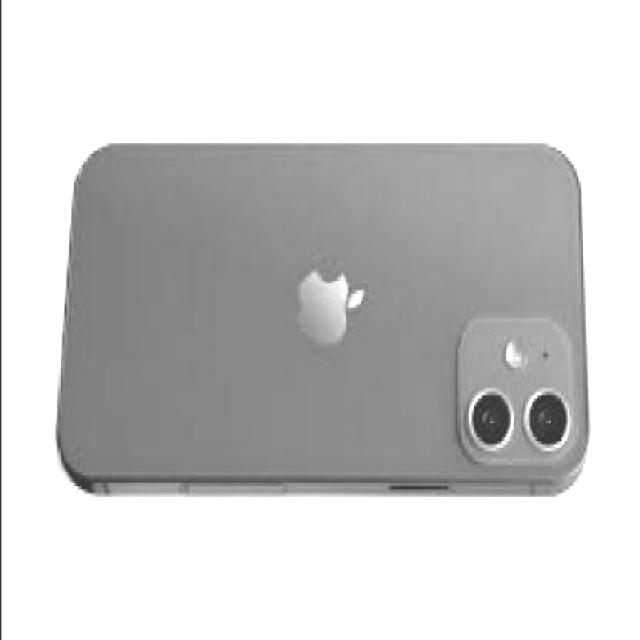fake: (60, 140, 582, 500)
